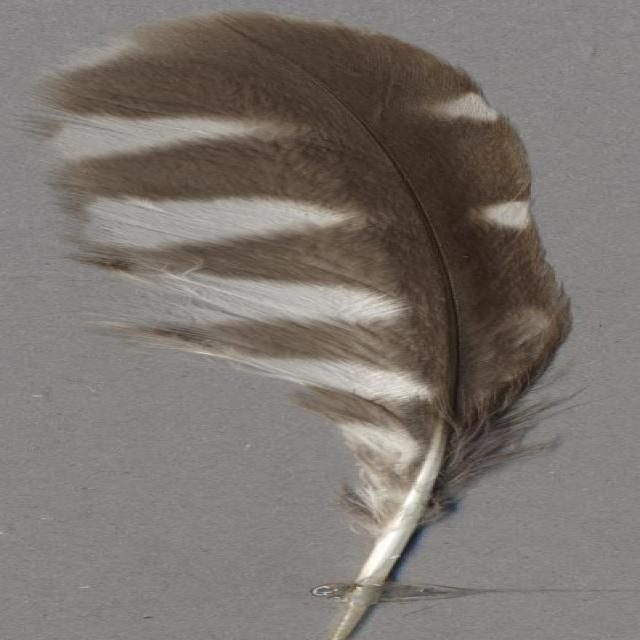feather: (24, 9, 601, 640)
